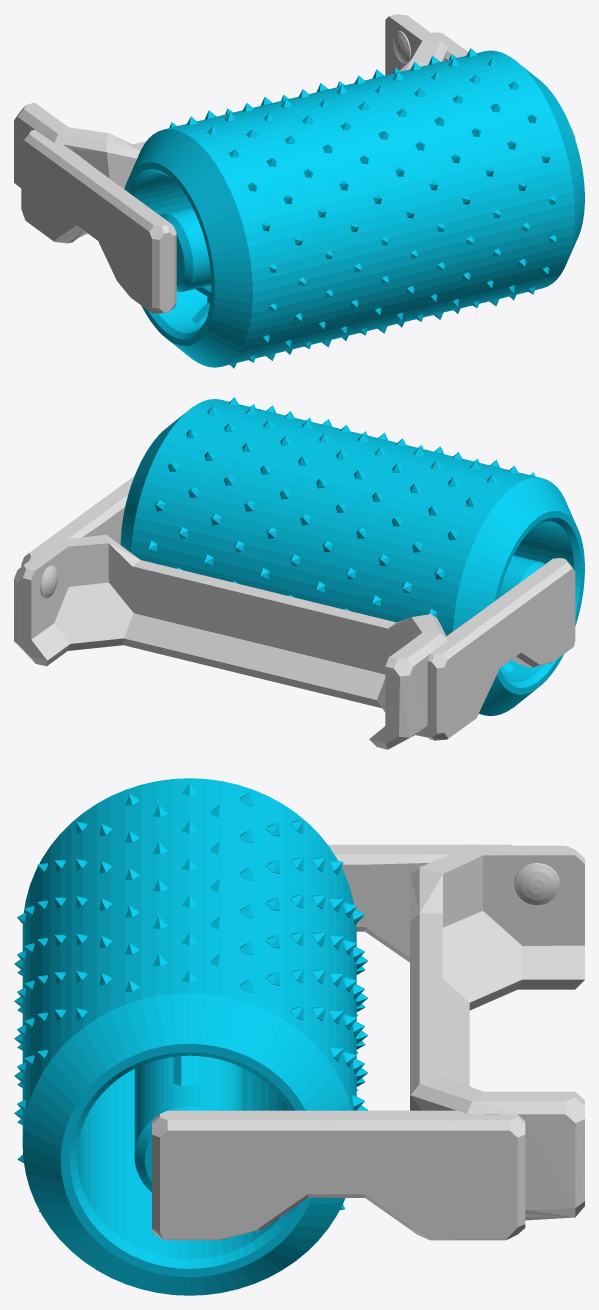
File: Bumper_Roller.glb
3 views of the same model, one above another, from view 1: azimuth 30°, elevation 25°; view 2: azimuth 150°, elevation 25°; view 3: azimuth 270°, elevation 25° (orthographic). The views are drawn at different scales.
Parts seen in each view (by area): view 1: Node8, Node4; view 2: Node8, Node4; view 3: Node8, Node4.
Part boxes in pixels (box(x1,y1,x2,y2)): Node8: box(124, 48, 584, 368); Node4: box(14, 14, 575, 313); Node8: box(120, 397, 584, 715); Node4: box(14, 476, 575, 749); Node8: box(14, 778, 368, 1295); Node4: box(152, 844, 584, 1240).
Size of the model in its own units: 86.4 by 45.75 by 73.81.
